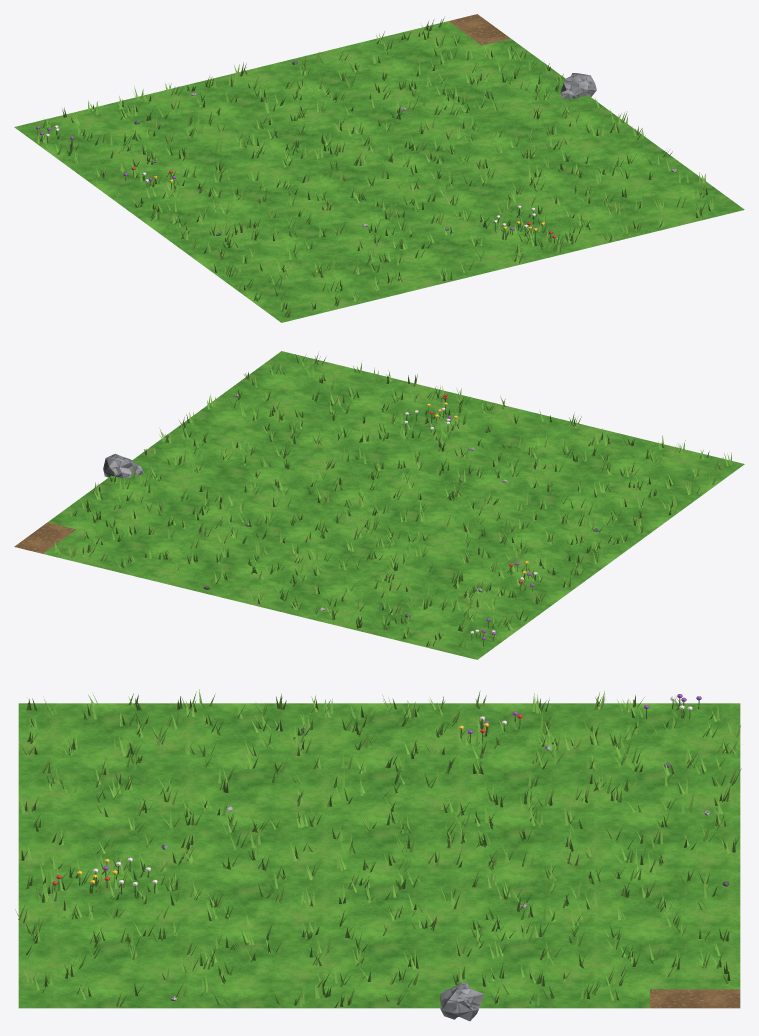
File: chunk_1_4.glb
3 renders of one model, top to bottom at view 1: azimuth 30°, elevation 25°; view 2: azimuth 150°, elevation 25°; view 3: azimuth 270°, elevation 25°, orthographic. The views are drawn at different scales.
Parts seen in each view (by area): view 1: chunk_1_4; view 2: chunk_1_4; view 3: chunk_1_4.
Boxes of the visible parts, bbox=[...] form: chunk_1_4: bbox=[14, 14, 744, 322]; chunk_1_4: bbox=[14, 351, 744, 659]; chunk_1_4: bbox=[15, 689, 741, 1021].
Size of the model in its own units: 16.5 by 0.8147 by 16.21.
11 materials, 6 textured.
